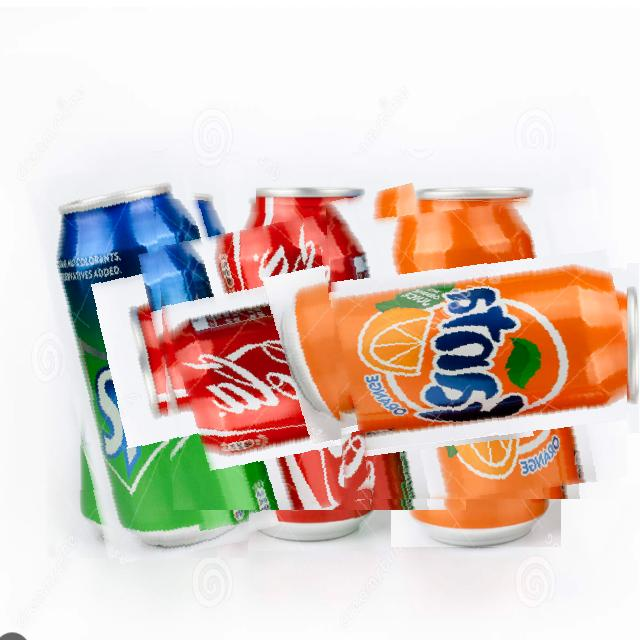recyclable: (155, 198, 466, 510), (326, 198, 628, 500), (47, 150, 257, 558)
